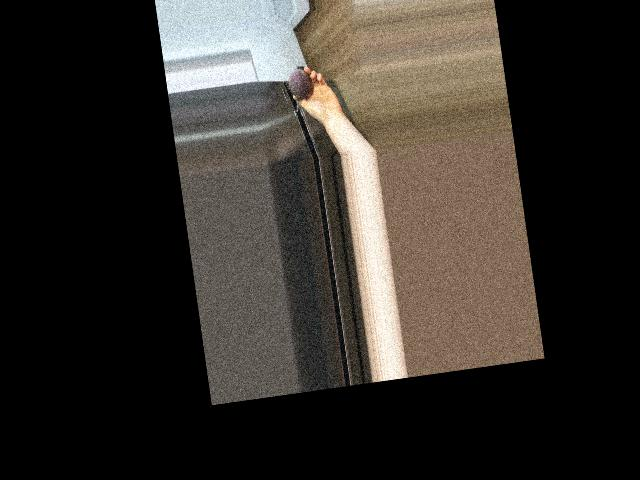beet: (286, 64, 314, 111)
